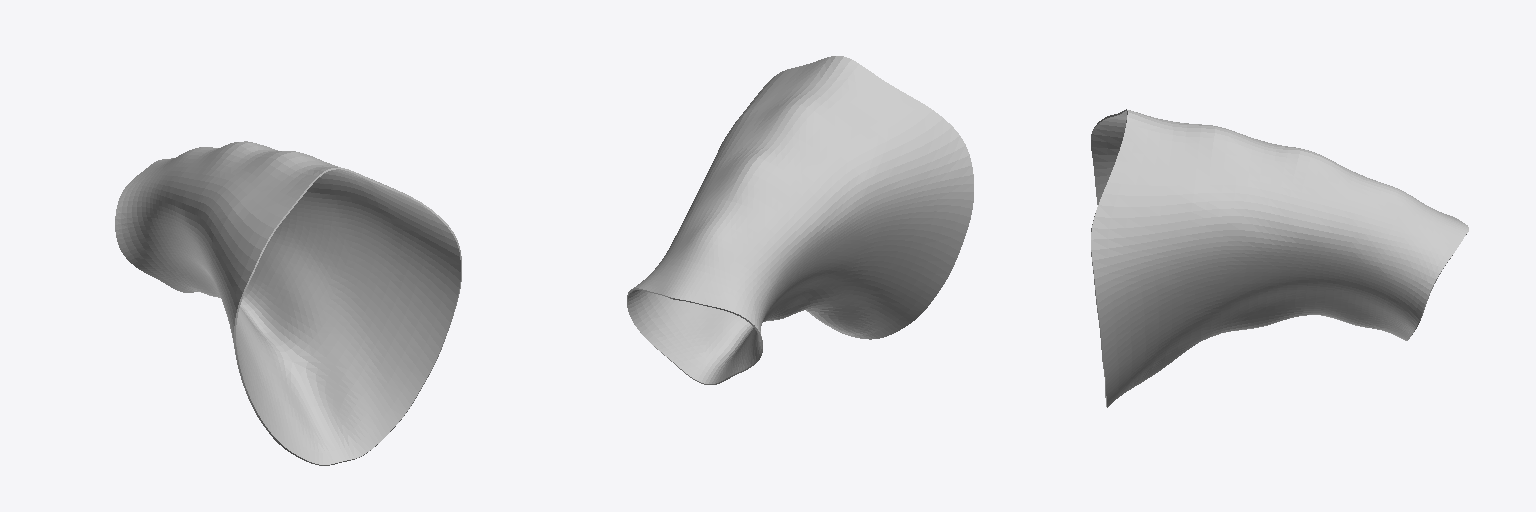
File: tail_start.obj
3 views of the same model, side by side, from view 1: azimuth 30°, elevation 25°; view 2: azimuth 150°, elevation 25°; view 3: azimuth 270°, elevation 25° (orthographic).
Visible parts, largest first — view 1: whale; view 2: whale; view 3: whale.
Boxes of the visible parts, x1=… form: whale: x1=115, y1=141, x2=461, y2=465; whale: x1=627, y1=56, x2=973, y2=384; whale: x1=1091, y1=109, x2=1468, y2=407.
Size of the model in its own units: 2.76 by 3.33 by 3.97.